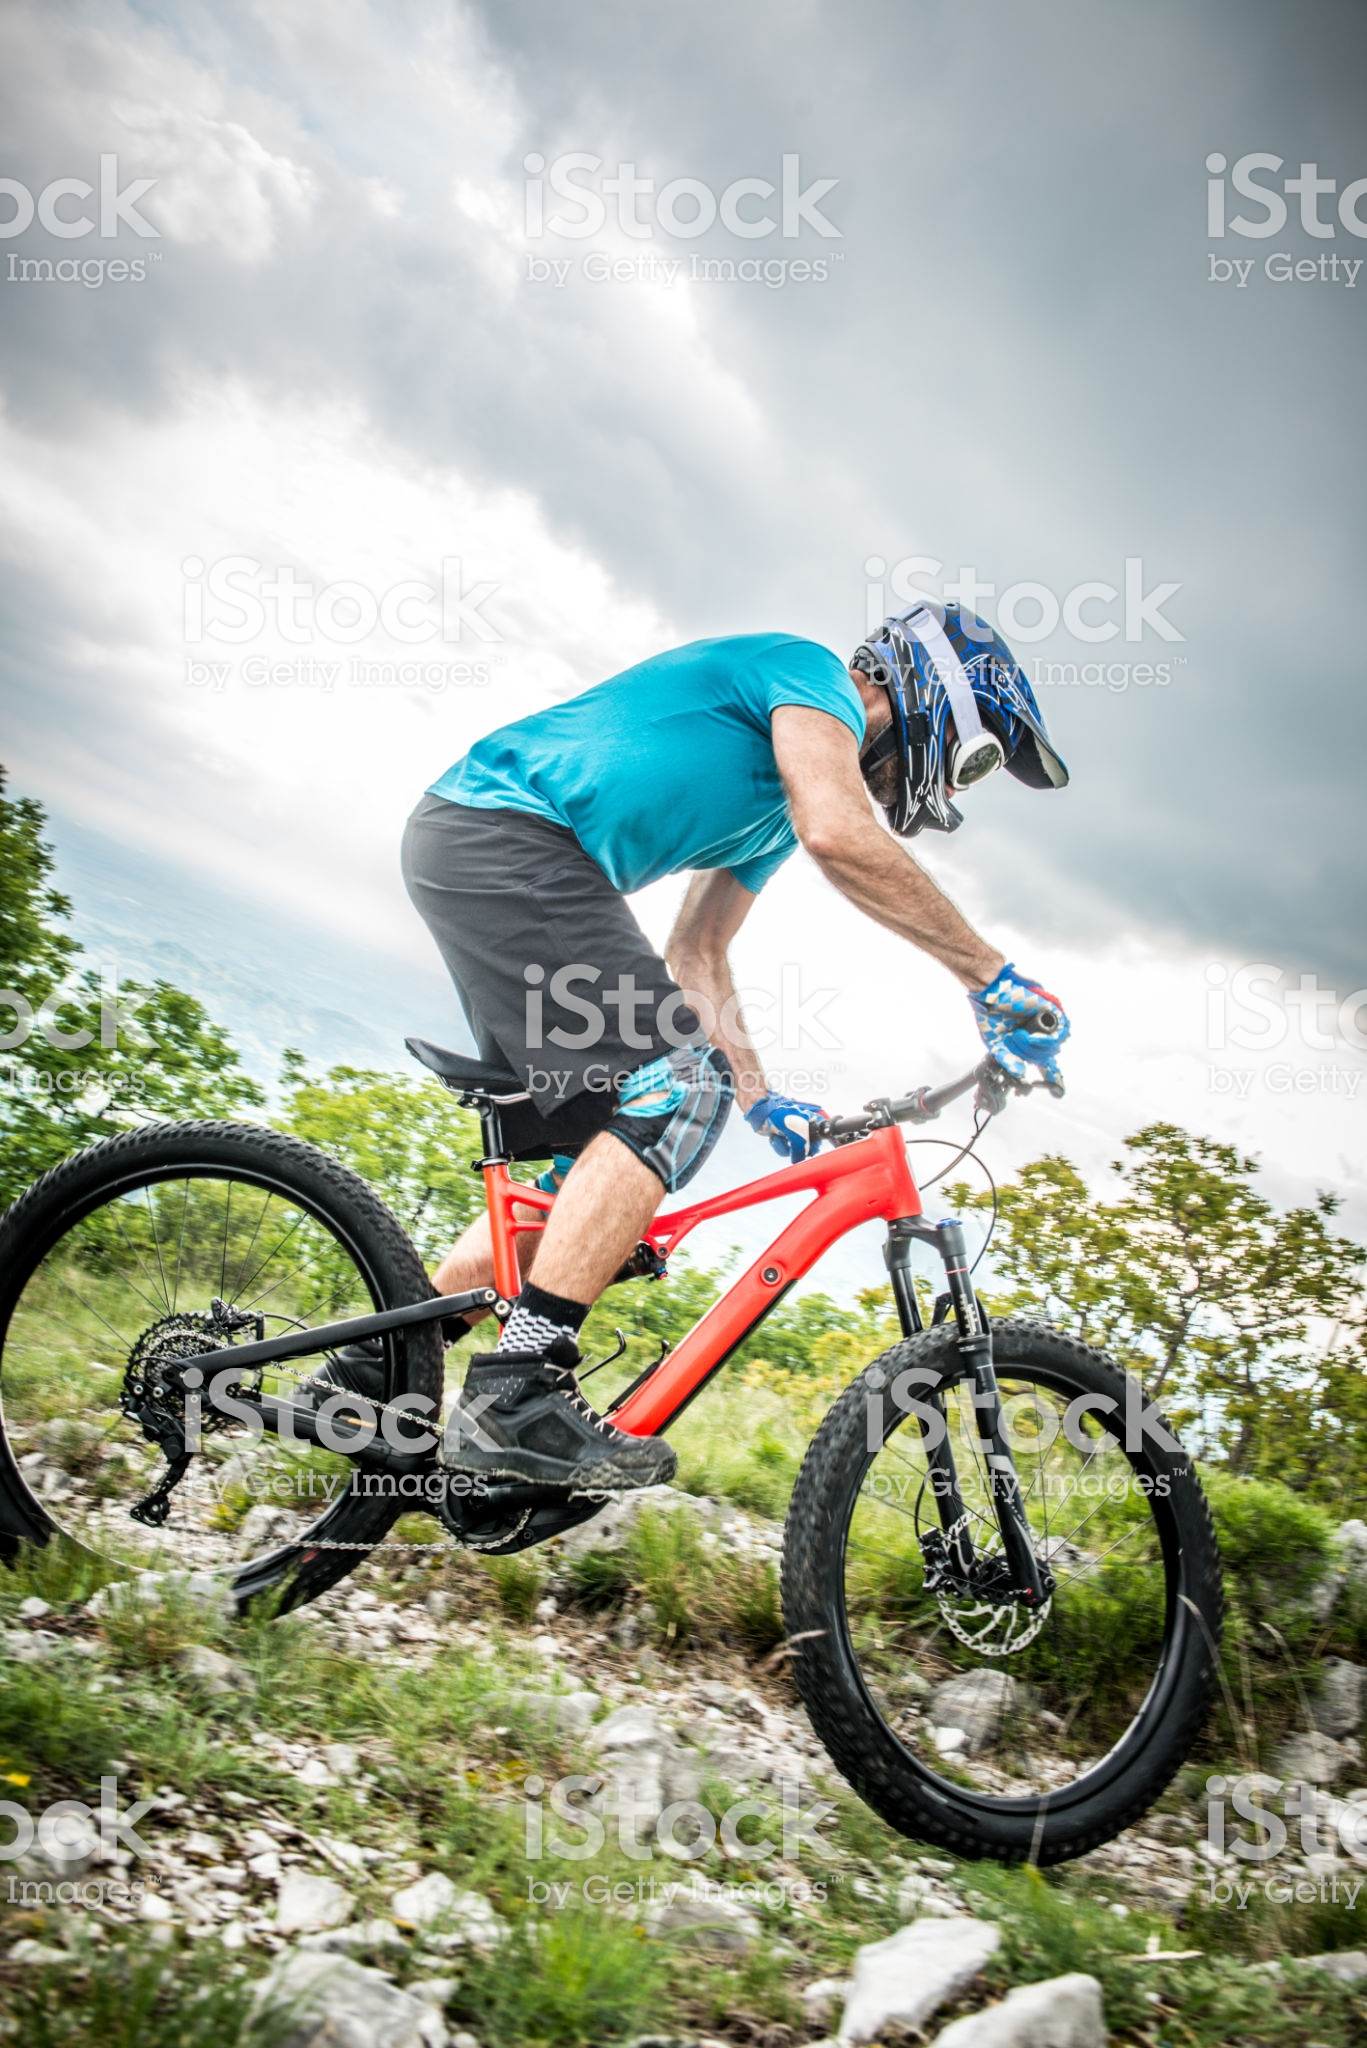helmet: (844, 551, 1063, 843)
